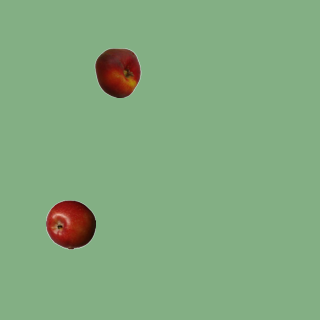Apple Braeburn: (45, 199, 95, 249)
Nectarine Flat: (92, 47, 142, 97)
